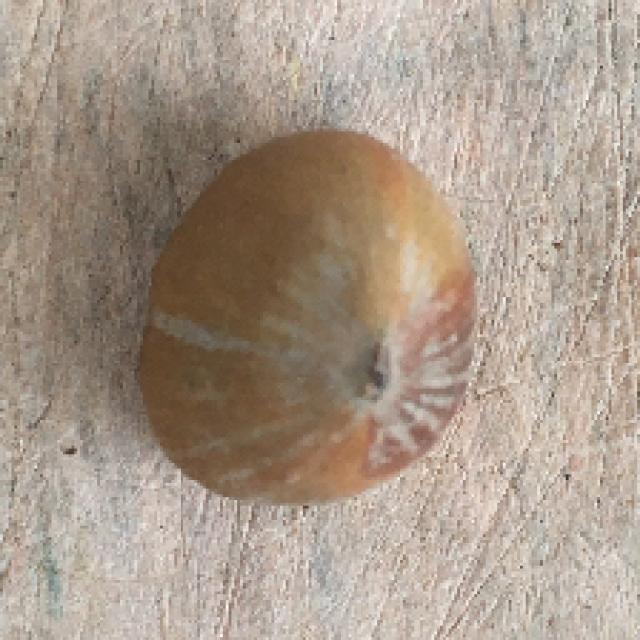qualityHazelnut: (130, 121, 493, 512)
